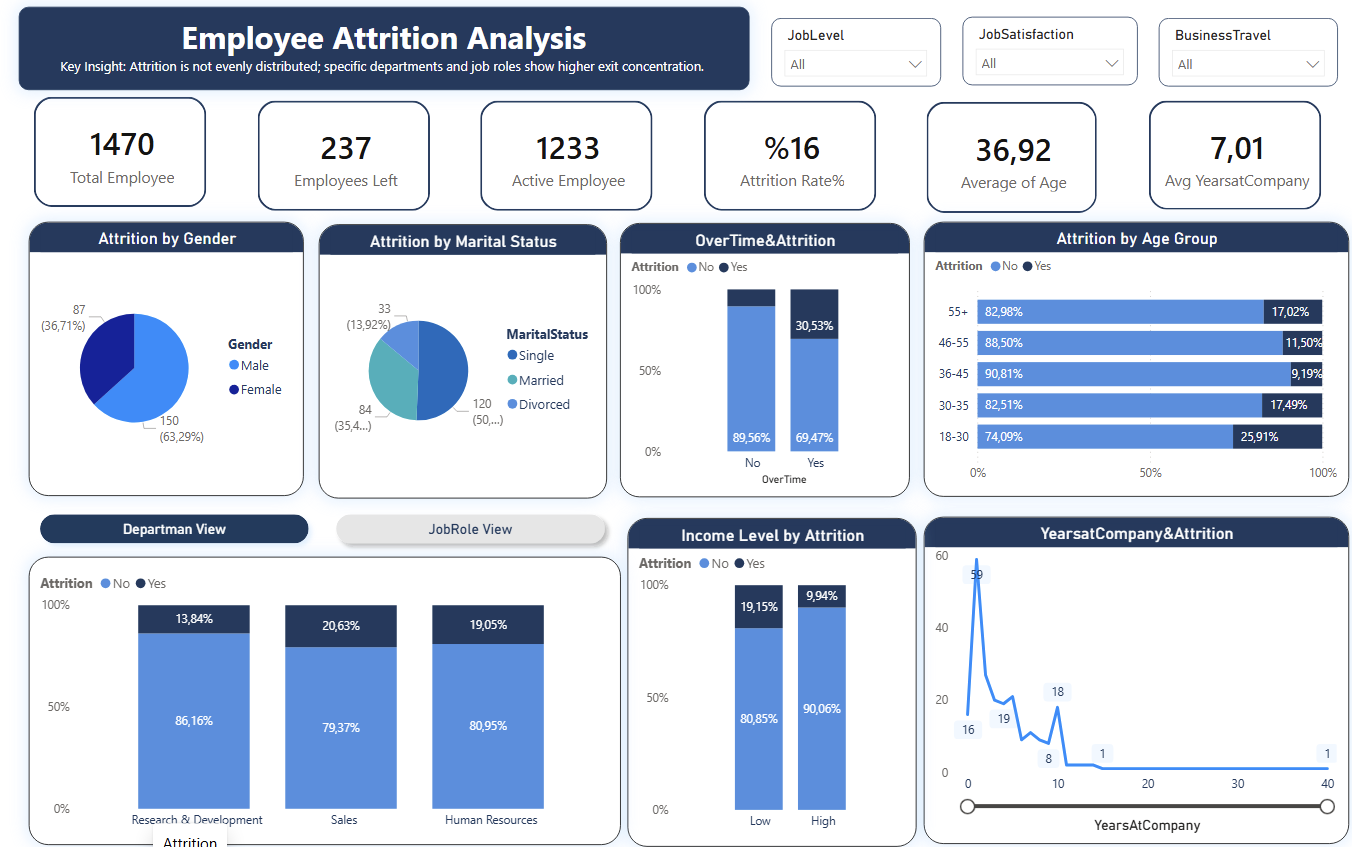

What the dashboard file says about the page in this screenshot:
{"tool":"powerbi","page":{"name":"Attrition","canvas":[1400,900],"ordinal":2},"visuals":[{"type":"cardVisual","fields":{"Data":["Sum(HR-Employee-Attrition.EmployeeCount)"]},"box":[23.5,89.8,211.5,147.9],"z":0},{"type":"cardVisual","fields":{"Data":["HR-Employee-Attrition.Attrition Yes"]},"box":[252.8,94.2,211.2,147.7],"z":1000},{"type":"cardVisual","fields":{"Data":["HR-Employee-Attrition.Attrition No"]},"box":[481.9,94.2,211.2,147.7],"z":2000},{"type":"cardVisual","fields":{"Data":["HR-Employee-Attrition.Attrition Rate%"]},"box":[711,94.2,211.2,147.7],"z":3000},{"type":"cardVisual","fields":{"Data":["Avg(HR-Employee-Attrition.Age)"]},"box":[940.1,94.9,209.8,148.4],"z":4000},{"type":"cardVisual","fields":{"Data":["Avg(HR-Employee-Attrition.YearsAtCompany)"]},"box":[1167.9,94,211.5,146.5],"z":5000},{"type":"pieChart","title":"Attrition by Gender","fields":{"Y":["HR-Employee-Attrition.Attrition Yes"],"Category":["HR-Employee-Attrition.Gender"]},"box":[34.8,234.9,282.7,281.3],"z":6000},{"type":"hundredPercentStackedBarChart","title":"Attrition by Age Group","fields":{"Category":["HR-Employee-Attrition.Age Group"],"Y":["Divide(CountNonNull(HR-Employee-Attrition.Attrition), ScopedEval(CountNonNull(HR-Employee-Attrition.Attrition), []))"],"Series":["HR-Employee-Attrition.Attrition"]},"box":[954,234.9,436.4,282.7],"z":7000},{"type":"lineChart","title":"YearsatCompany&Attrition","fields":{"Category":["HR-Employee-Attrition.YearsAtCompany"],"Y":["HR-Employee-Attrition.Attrition Yes"]},"box":[954,537.9,436.4,336.4],"z":8000},{"type":"hundredPercentStackedColumnChart","title":"OverTime&Attrition","fields":{"Category":["HR-Employee-Attrition.OverTime"],"Y":["CountNonNull(HR-Employee-Attrition.Attrition)"],"Series":["HR-Employee-Attrition.Attrition"]},"box":[642.3,236.3,297.2,281.3],"z":9000},{"type":"hundredPercentStackedColumnChart","title":"Income Level by Attrition","fields":{"Category":["HR-Employee-Attrition.IncomeLevel"],"Y":["HR-Employee-Attrition.Employee_Count"],"Series":["HR-Employee-Attrition.Attrition"]},"box":[649.6,539,297.1,337.2],"z":10000},{"type":"slicer","fields":{"Values":["HR-Employee-Attrition.BusinessTravel"]},"box":[1194.7,25,184.3,70.5],"z":11000},{"type":"slicer","fields":{"Values":["HR-Employee-Attrition.JobSatisfaction"]},"box":[993.3,24.9,179.7,70.5],"z":12000},{"type":"slicer","fields":{"Values":["HR-Employee-Attrition.JobLevel"]},"box":[797.6,25,174.1,70.5],"z":13000},{"type":"pieChart","title":"Attrition by Marital Status","fields":{"Y":["HR-Employee-Attrition.Attrition Yes"],"Category":["HR-Employee-Attrition.MaritalStatus"]},"box":[332,237.8,295.8,281.3],"z":14000},{"type":"hundredPercentStackedColumnChart","title":"Attrition by Department","fields":{"Category":["HR-Employee-Attrition.Department"],"Series":["HR-Employee-Attrition.Attrition"],"Y":["Divide(Sum(HR-Employee-Attrition.EmployeeCount), ScopedEval(Sum(HR-Employee-Attrition.EmployeeCount), []))"]},"box":[34.6,579.1,607.7,296.3],"z":16000},{"type":"bookmarkNavigator","box":[37.5,526.8,599.6,48.9],"z":17000},{"type":"textbox","box":[23.8,14,750.1,85.4],"z":18000}]}

Visuals, with their boxes in screenshot pixels (x1, y1, x2, y2), scaled from the page's 1400x900 canvas onto the 1352x847 screenshot:
cardVisual - Sum(HR-Employee-Attrition.EmployeeCount): box=[23, 85, 227, 224]
cardVisual - HR-Employee-Attrition.Attrition Yes: box=[244, 89, 448, 228]
cardVisual - HR-Employee-Attrition.Attrition No: box=[465, 89, 669, 228]
cardVisual - HR-Employee-Attrition.Attrition Rate%: box=[687, 89, 891, 228]
cardVisual - Avg(HR-Employee-Attrition.Age): box=[908, 89, 1110, 229]
cardVisual - Avg(HR-Employee-Attrition.YearsAtCompany): box=[1128, 88, 1332, 226]
"Attrition by Gender" pieChart: box=[34, 221, 307, 486]
"Attrition by Age Group" hundredPercentStackedBarChart: box=[921, 221, 1343, 487]
"YearsatCompany&Attrition" lineChart: box=[921, 506, 1343, 823]
"OverTime&Attrition" hundredPercentStackedColumnChart: box=[620, 222, 907, 487]
"Income Level by Attrition" hundredPercentStackedColumnChart: box=[627, 507, 914, 825]
slicer - HR-Employee-Attrition.BusinessTravel: box=[1154, 24, 1332, 90]
slicer - HR-Employee-Attrition.JobSatisfaction: box=[959, 23, 1133, 90]
slicer - HR-Employee-Attrition.JobLevel: box=[770, 24, 938, 90]
"Attrition by Marital Status" pieChart: box=[321, 224, 606, 489]
"Attrition by Department" hundredPercentStackedColumnChart: box=[33, 545, 620, 824]
bookmarkNavigator: box=[36, 496, 615, 542]
textbox: box=[23, 13, 747, 94]
